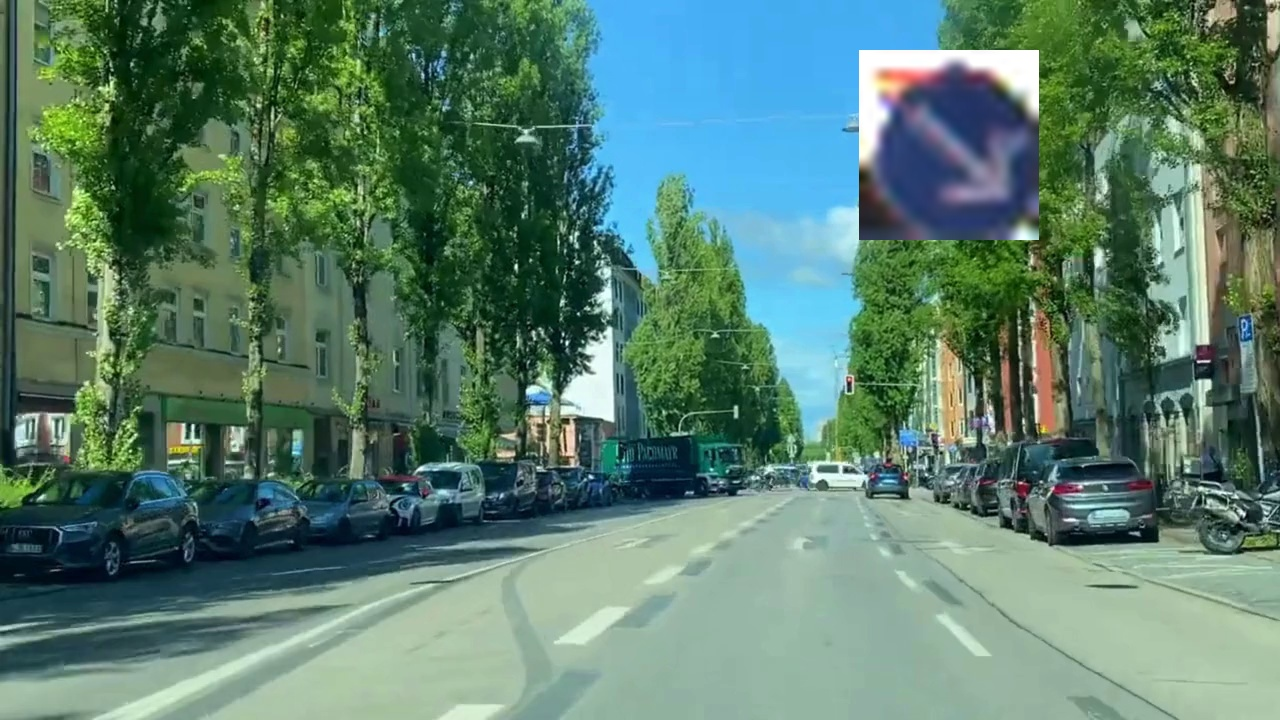Keep right: (859, 50, 1039, 240)
